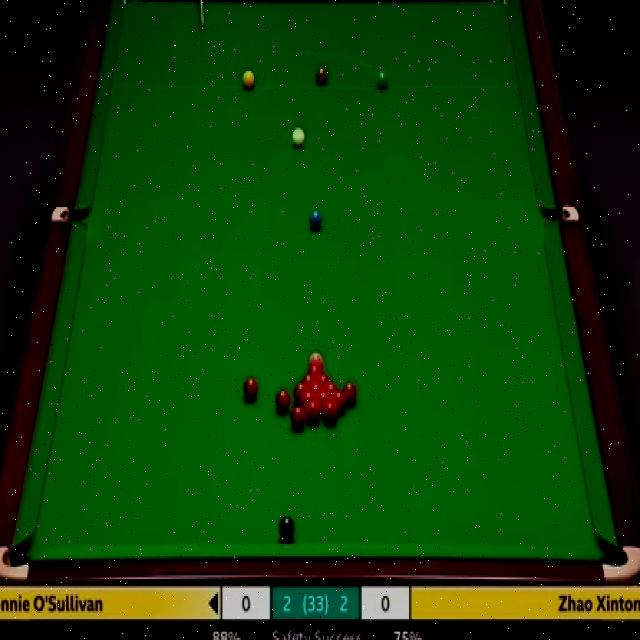black-ball: (277, 513, 295, 538)
blue-ball: (309, 210, 323, 228)
brown-ball: (316, 67, 328, 85)
green-ball: (374, 68, 390, 90)
pink-ball: (308, 354, 325, 370)
red-ball: (330, 390, 348, 414), (274, 387, 292, 410), (242, 376, 259, 400), (290, 405, 305, 431), (324, 399, 340, 423), (294, 382, 310, 404), (304, 400, 321, 420), (343, 380, 355, 408), (319, 372, 332, 392), (302, 374, 317, 387)
white-ball: (291, 128, 306, 146)
yellow-ball: (242, 69, 255, 90)
